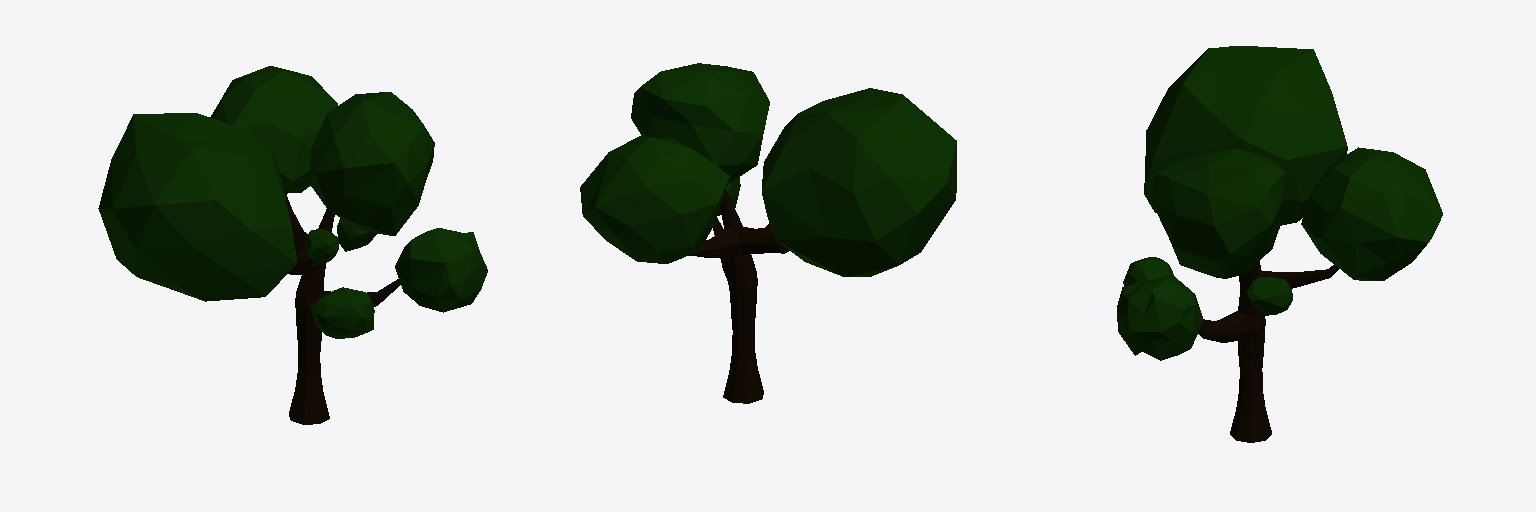
File: OakTreeV1.obj
The picture shows the model from 3 angles: view 1: azimuth 30°, elevation 25°; view 2: azimuth 150°, elevation 25°; view 3: azimuth 270°, elevation 25°; orthographic projection.
Parts seen in each view (by area): view 1: Cylinder_Cylinder.001; view 2: Cylinder_Cylinder.001; view 3: Cylinder_Cylinder.001.
Boxes of the visible parts, x1=… form: Cylinder_Cylinder.001: x1=98, y1=66, x2=487, y2=424; Cylinder_Cylinder.001: x1=580, y1=63, x2=956, y2=403; Cylinder_Cylinder.001: x1=1117, y1=46, x2=1442, y2=442.
Bounding box in the file's own units: 5.47 × 5.16 × 4.8.